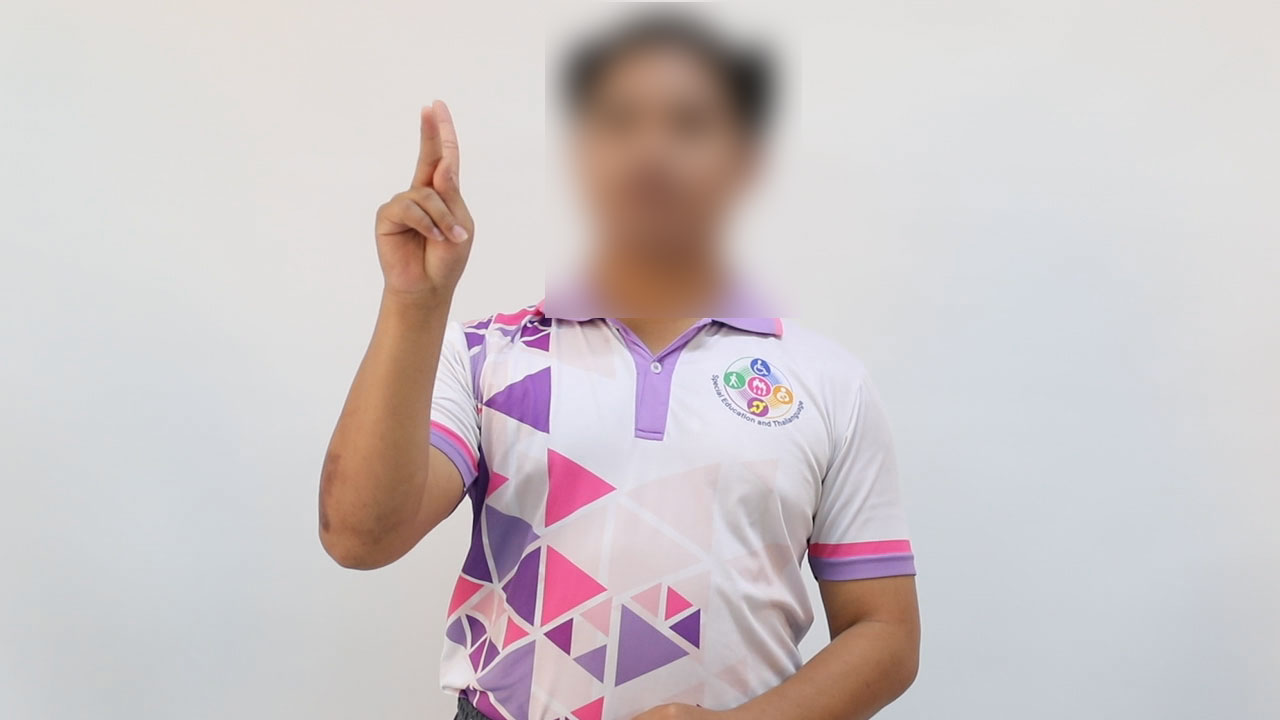ko: (357, 92, 490, 298)
